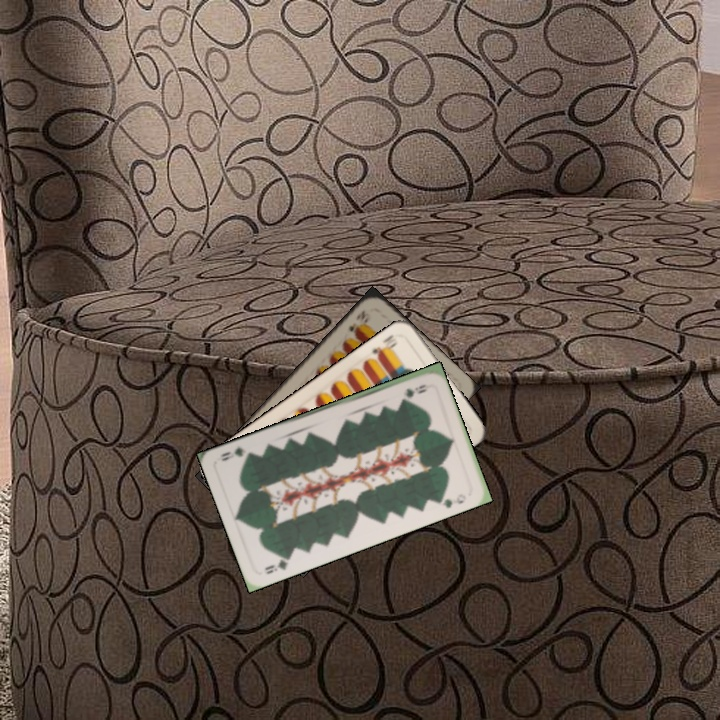E10: (368, 330, 400, 361), (345, 307, 372, 337)
G9: (261, 551, 294, 577), (402, 380, 429, 399)
